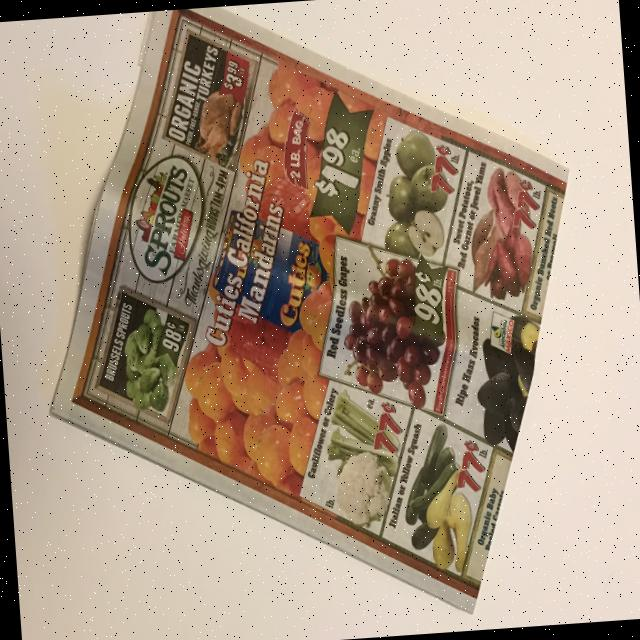paper: (21, 0, 602, 640)
